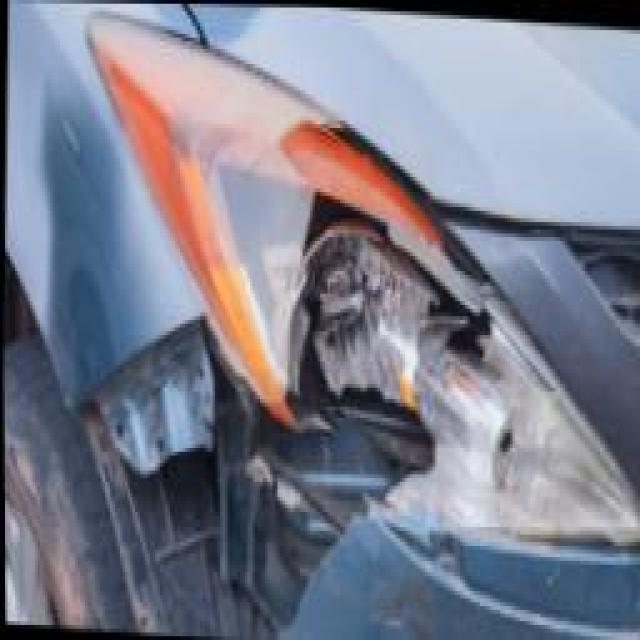Fender: (62, 314, 372, 640)
Light: (74, 18, 639, 549)
